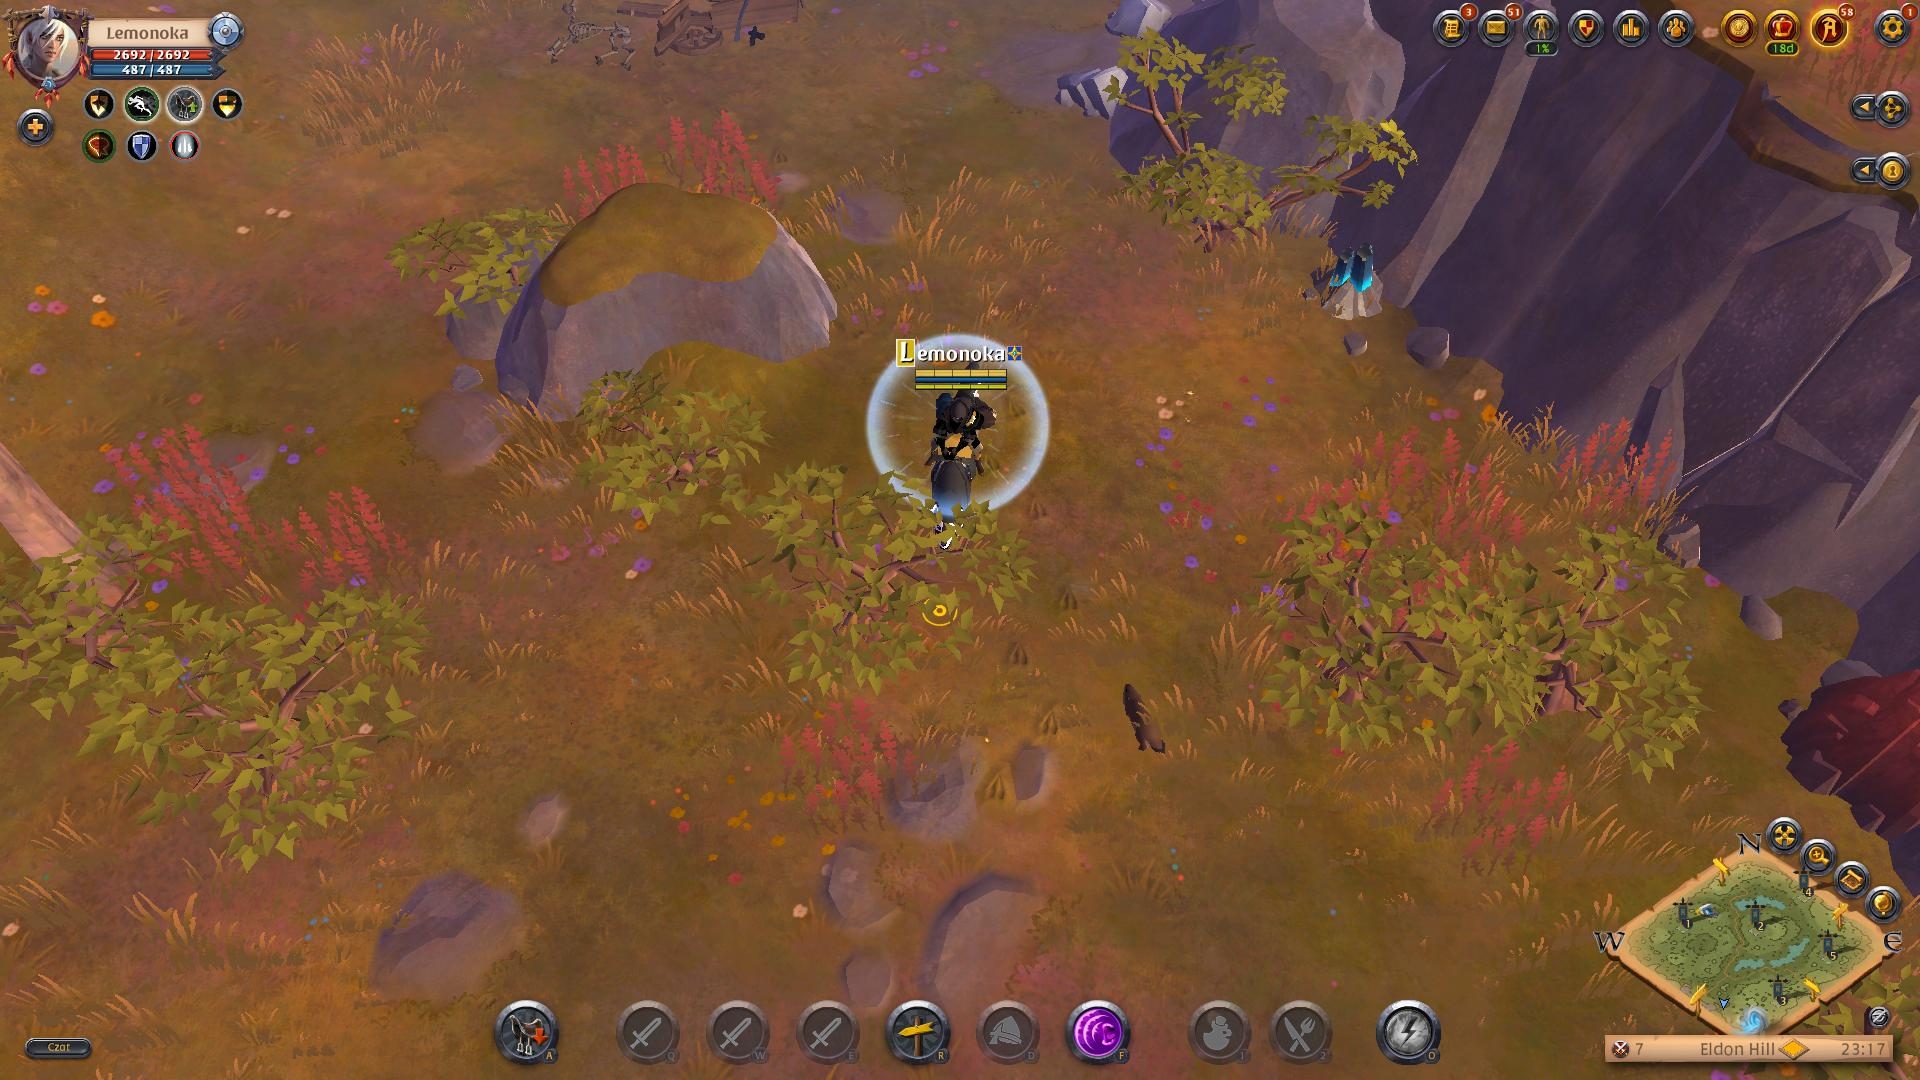ore tier 4: (1312, 239, 1394, 330)
rock tier 1: (1056, 62, 1135, 124)
